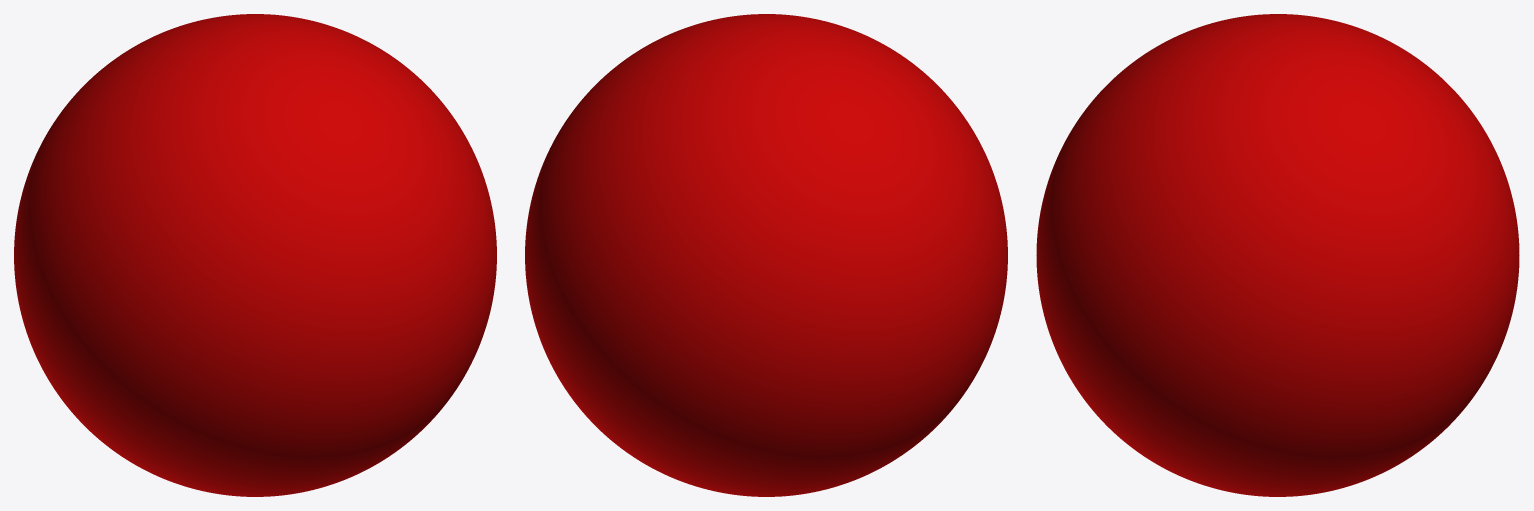
Rendered from red_sphere.glb.
The picture shows the model from 3 angles, left to right: view 1: azimuth 30°, elevation 25°; view 2: azimuth 150°, elevation 25°; view 3: azimuth 270°, elevation 25°; orthographic projection.
Parts seen in each view (by area): view 1: sphereestlcleanermaterialmergergles; view 2: sphereestlcleanermaterialmergergles; view 3: sphereestlcleanermaterialmergergles.
Boxes of the visible parts, x1,y1,x2,y2 form: sphereestlcleanermaterialmergergles: (14,14,496,496); sphereestlcleanermaterialmergergles: (525,14,1007,496); sphereestlcleanermaterialmergergles: (1036,14,1519,496).
Bounding box in the file's own units: 20 × 20 × 20.
